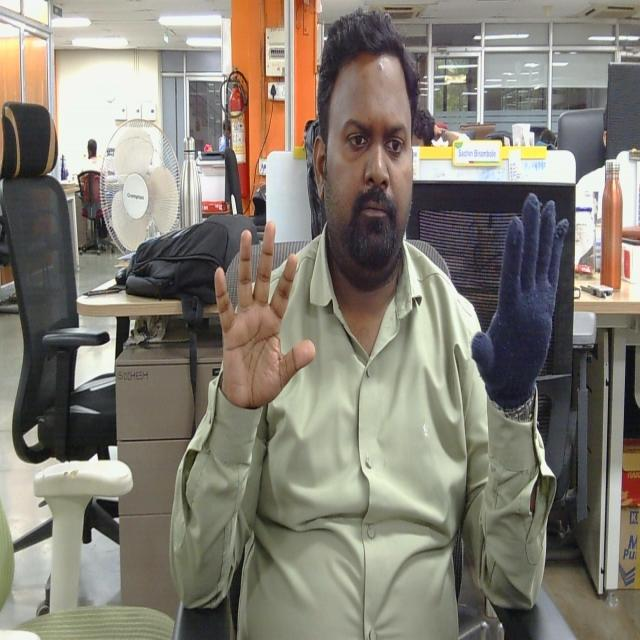Gloves-Detection: (472, 194, 567, 413)
